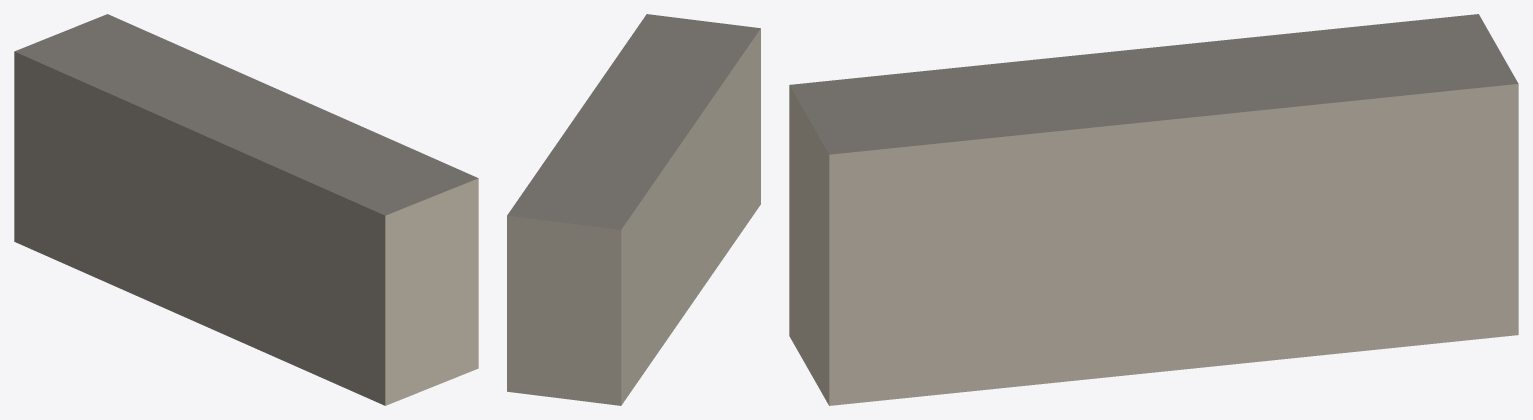
3 views of the same model, side by side, from view 1: azimuth 30°, elevation 25°; view 2: azimuth 150°, elevation 25°; view 3: azimuth 270°, elevation 25° (orthographic). The views are drawn at different scales.
Visible parts, largest first — view 1: HP-w389701974; view 2: HP-w389701974; view 3: HP-w389701974.
Boxes of the visible parts, x1,y1,x2,y2 form: HP-w389701974: [14, 14, 478, 405]; HP-w389701974: [507, 14, 760, 405]; HP-w389701974: [789, 14, 1518, 405].
Size of the model in its own units: 21.62 by 18 by 47.34.
